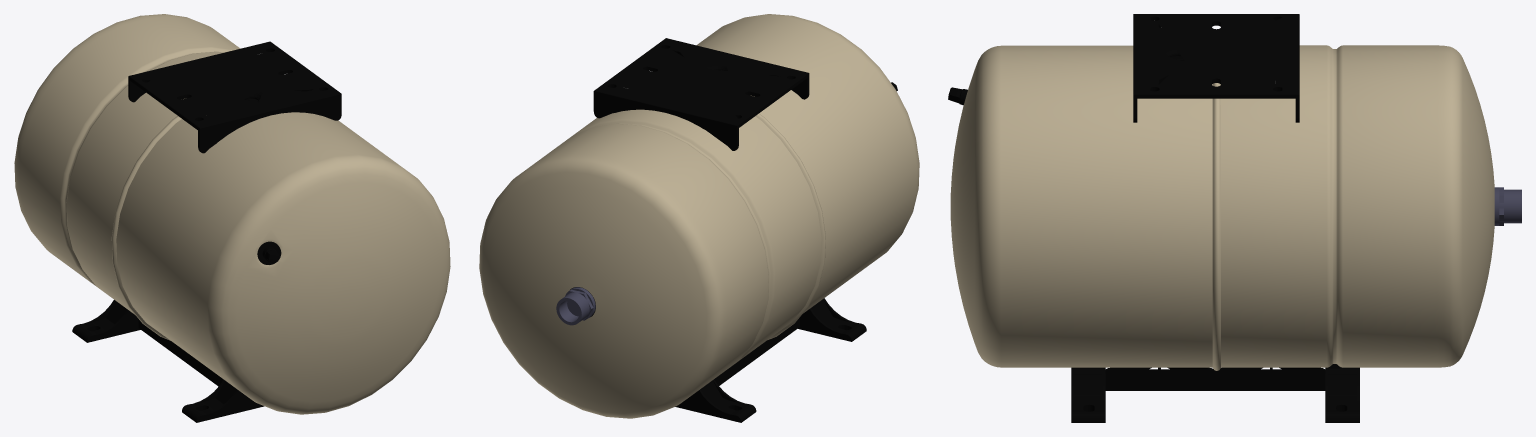
Rendered from 60lt-sabit-tank-yatay.obj.
3 renders of one model, left to right at view 1: azimuth 30°, elevation 25°; view 2: azimuth 150°, elevation 25°; view 3: azimuth 270°, elevation 25°, orthographic. The views are drawn at different scales.
Visible parts, largest first — view 1: 60lt-sabit-tank-yatay.007, 60lt-sabit-tank-yatay.006, 60lt-sabit-tank-yatay.001, 60lt-sabit-tank-yatay, 60lt-sabit-tank-yatay.004, 60lt-sabit-tank-yatay.002; view 2: 60lt-sabit-tank-yatay.006, 60lt-sabit-tank-yatay.007, 60lt-sabit-tank-yatay.001, 60lt-sabit-tank-yatay, 60lt-sabit-tank-yatay.004, 60lt-sabit-tank-yatay.008; view 3: 60lt-sabit-tank-yatay.006, 60lt-sabit-tank-yatay.007, 60lt-sabit-tank-yatay.001, 60lt-sabit-tank-yatay, 60lt-sabit-tank-yatay.004, 60lt-sabit-tank-yatay.008.
Part boxes in pixels (<box>): 60lt-sabit-tank-yatay.007: <box>116,112,450,414</box>; 60lt-sabit-tank-yatay.006: <box>14,14,239,333</box>; 60lt-sabit-tank-yatay.001: <box>128,41,341,153</box>; 60lt-sabit-tank-yatay: <box>72,300,264,422</box>; 60lt-sabit-tank-yatay.004: <box>111,116,181,340</box>; 60lt-sabit-tank-yatay.002: <box>257,241,281,264</box>; 60lt-sabit-tank-yatay.006: <box>479,109,821,418</box>; 60lt-sabit-tank-yatay.007: <box>696,14,919,313</box>; 60lt-sabit-tank-yatay.001: <box>593,38,809,150</box>; 60lt-sabit-tank-yatay: <box>675,298,866,422</box>; 60lt-sabit-tank-yatay.004: <box>755,113,825,339</box>; 60lt-sabit-tank-yatay.008: <box>556,287,595,325</box>; 60lt-sabit-tank-yatay.006: <box>1220,45,1494,367</box>; 60lt-sabit-tank-yatay.007: <box>950,45,1212,367</box>; 60lt-sabit-tank-yatay.001: <box>1133,14,1299,122</box>; 60lt-sabit-tank-yatay: <box>1071,364,1359,422</box>; 60lt-sabit-tank-yatay.004: <box>1212,83,1220,370</box>; 60lt-sabit-tank-yatay.008: <box>1494,187,1521,225</box>.
Bounding box in the file's own units: 4.39 × 4.58 × 7.65.
